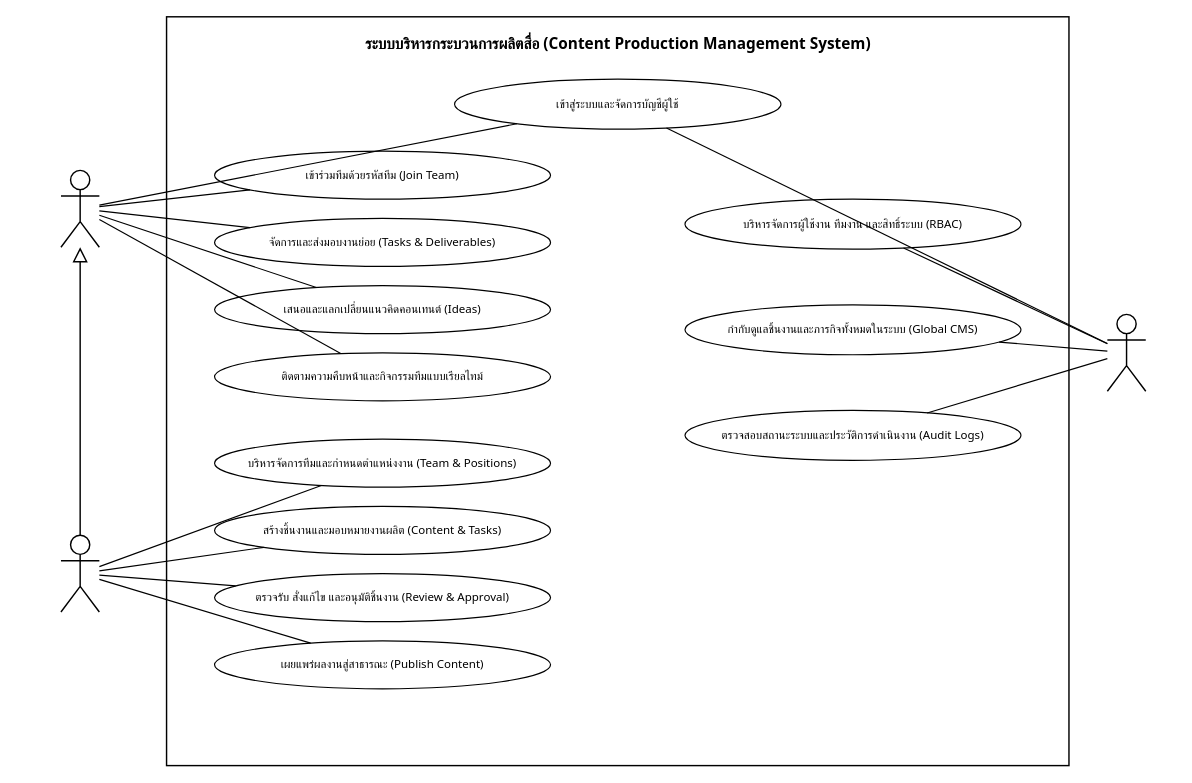
Image size: 1192x783. Some labels were removed from this diagram. Each missing label, with the centre of its shape:
"Admin (ผู้ดูแลระบบ)" belongs at pixel 1126 352.
"Manager (หัวหน้าทีม)" belongs at pixel 80 573.
"Member (สมาชิกฝ่ายผลิต)" belongs at pixel 80 208.
